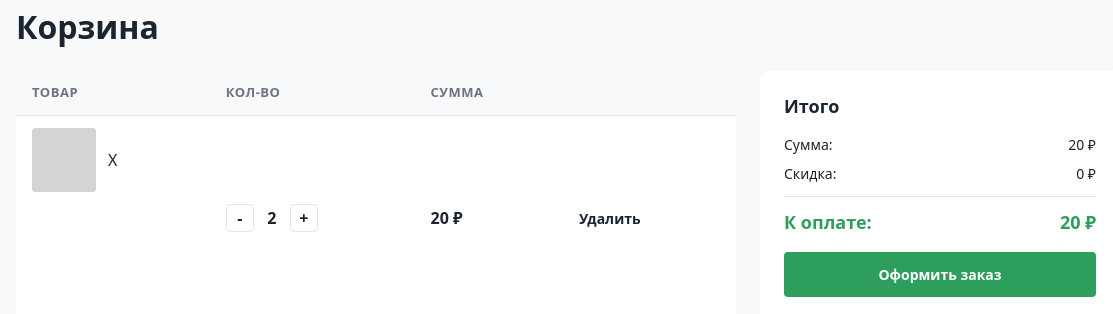
Test: CartPage › remove button removes the line
Click the button "Удалить" at coordinates (610, 218), box [571,200,649,236]
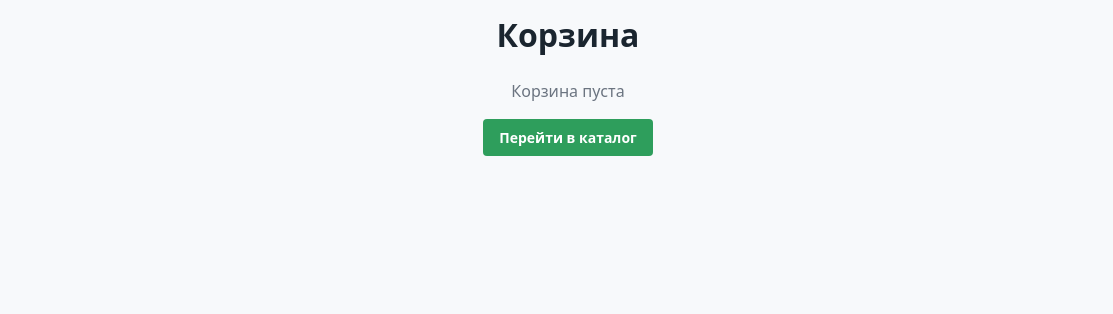
Expected: the text "Корзина пуста" is shown, [511,80,625,102]
